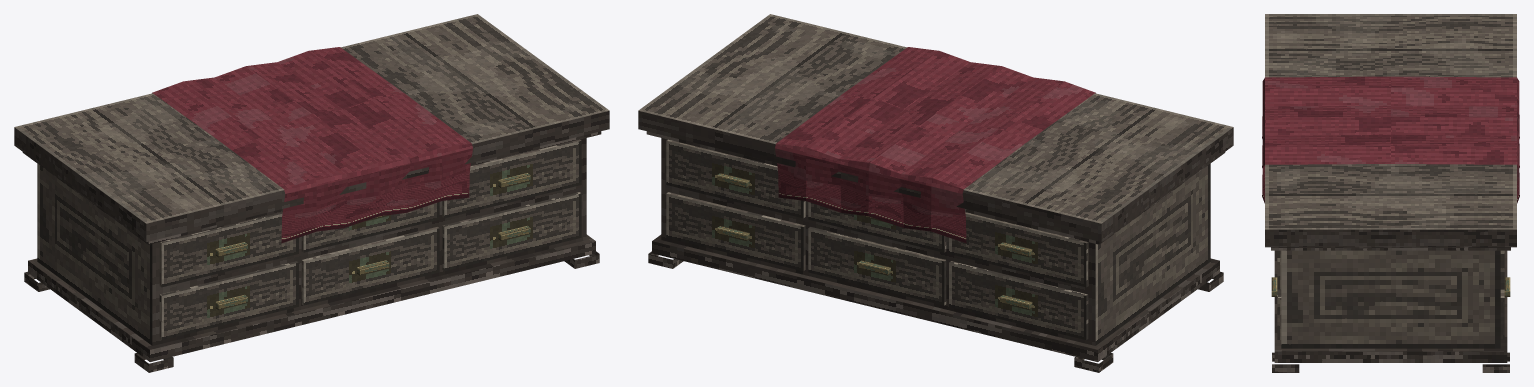
The model's file is storage_table_2x4.glb.
The picture shows the model from 3 angles, left to right: view 1: azimuth 30°, elevation 25°; view 2: azimuth 150°, elevation 25°; view 3: azimuth 270°, elevation 25°; orthographic projection. The views are drawn at different scales.
Visible parts, largest first — view 1: storage_table_2x4, storage_table_2x4_cloth; view 2: storage_table_2x4, storage_table_2x4_cloth; view 3: storage_table_2x4, storage_table_2x4_cloth.
Boxes of the visible parts, bbox=[...] form: storage_table_2x4: bbox=[14, 14, 609, 372]; storage_table_2x4_cloth: bbox=[152, 47, 472, 243]; storage_table_2x4: bbox=[638, 14, 1233, 372]; storage_table_2x4_cloth: bbox=[775, 47, 1095, 243]; storage_table_2x4: bbox=[1265, 14, 1516, 372]; storage_table_2x4_cloth: bbox=[1262, 76, 1519, 203].
Size of the model in its own units: 79 by 25.87 by 39.9.
2 materials, 2 textured.
